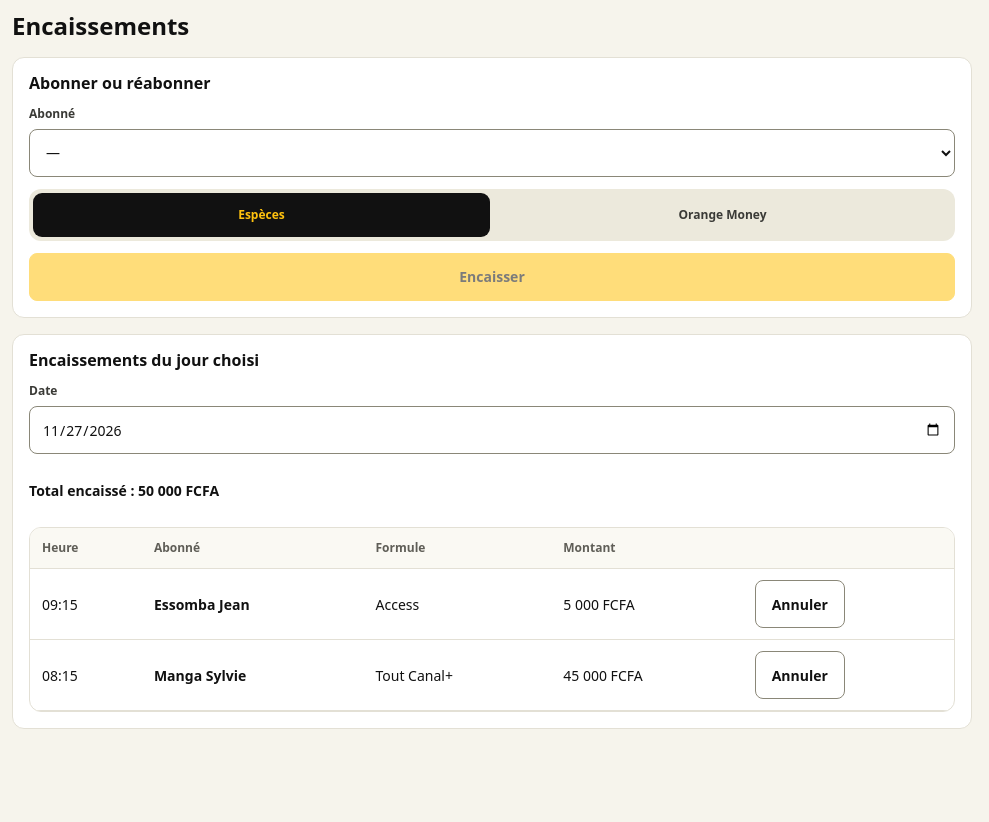
écran des encaissements › annule avec un motif obligatoire ; le total baisse aussitôt
Click the button with aria-label "Annuler Essomba Jean": (800, 604) [755, 580, 845, 628]
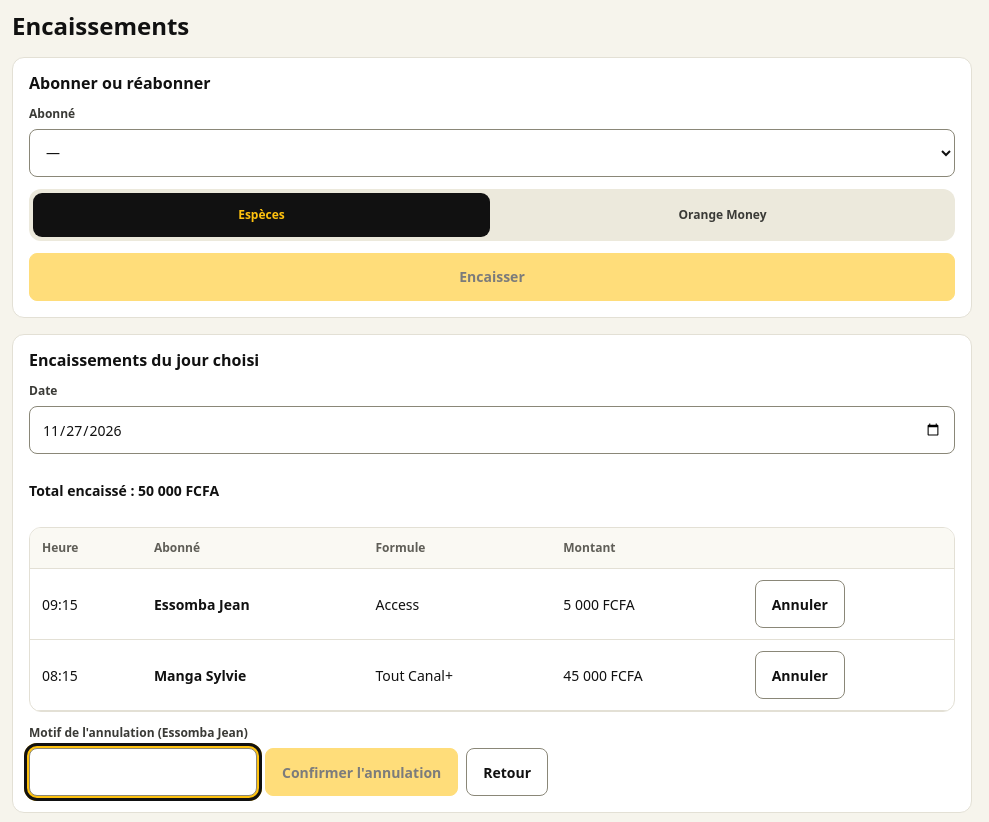
In the field labelled "Motif de l'annulation (Essomba Jean)": (143, 772) [29, 748, 257, 796], type "abc"
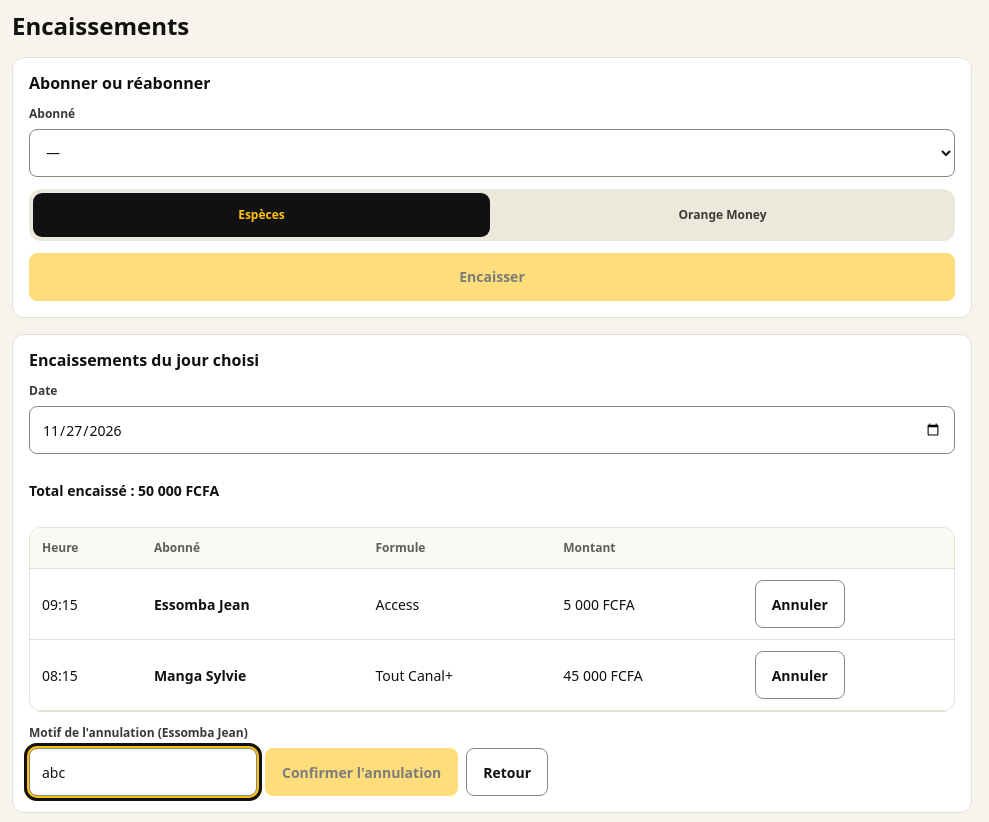
Result: the button "Confirmer l'annulation" is disabled at [265, 748, 458, 796]
In the field labelled "Motif de l'annulation (Essomba Jean)": (143, 772) [29, 748, 257, 796], type " erreur de saisie"
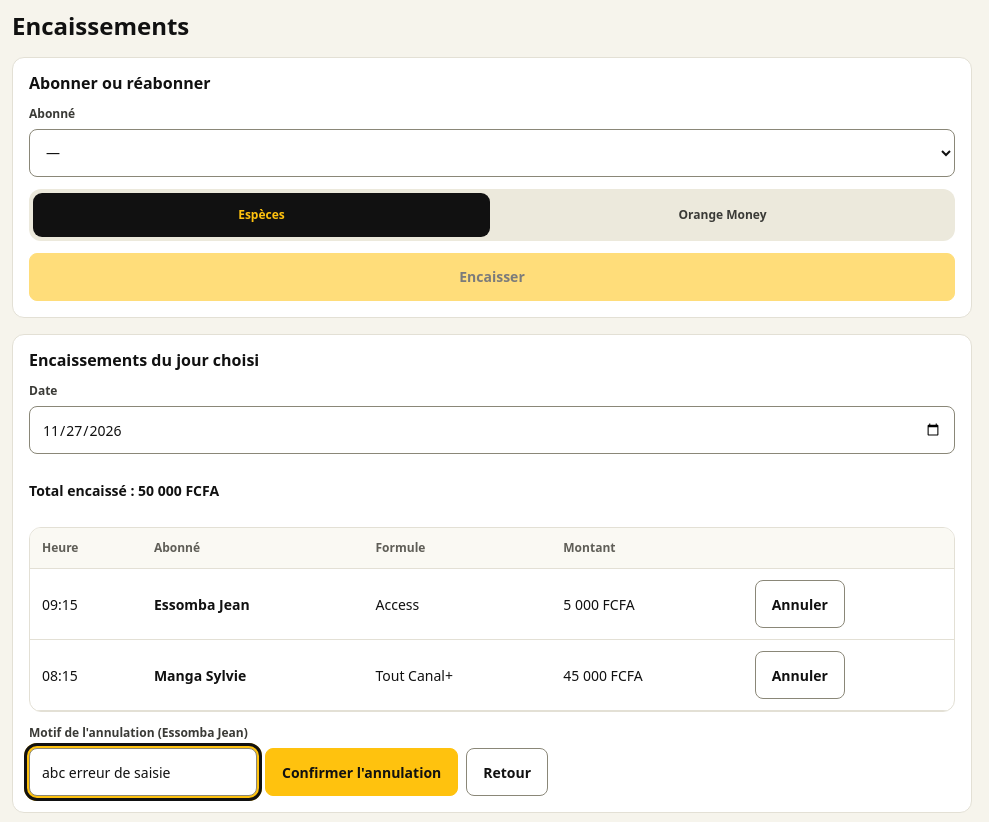
Click the button "Confirmer l'annulation": (362, 772) [265, 748, 458, 796]
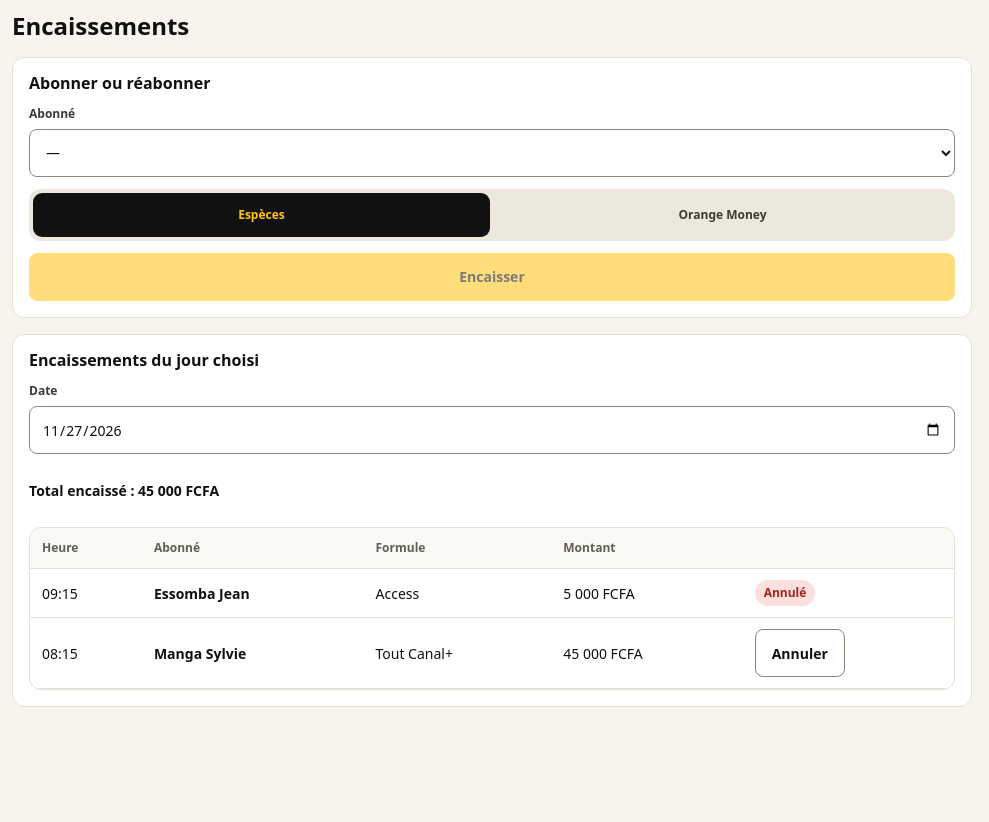
Result: the text "Annulé" is shown at [755, 580, 815, 606]
